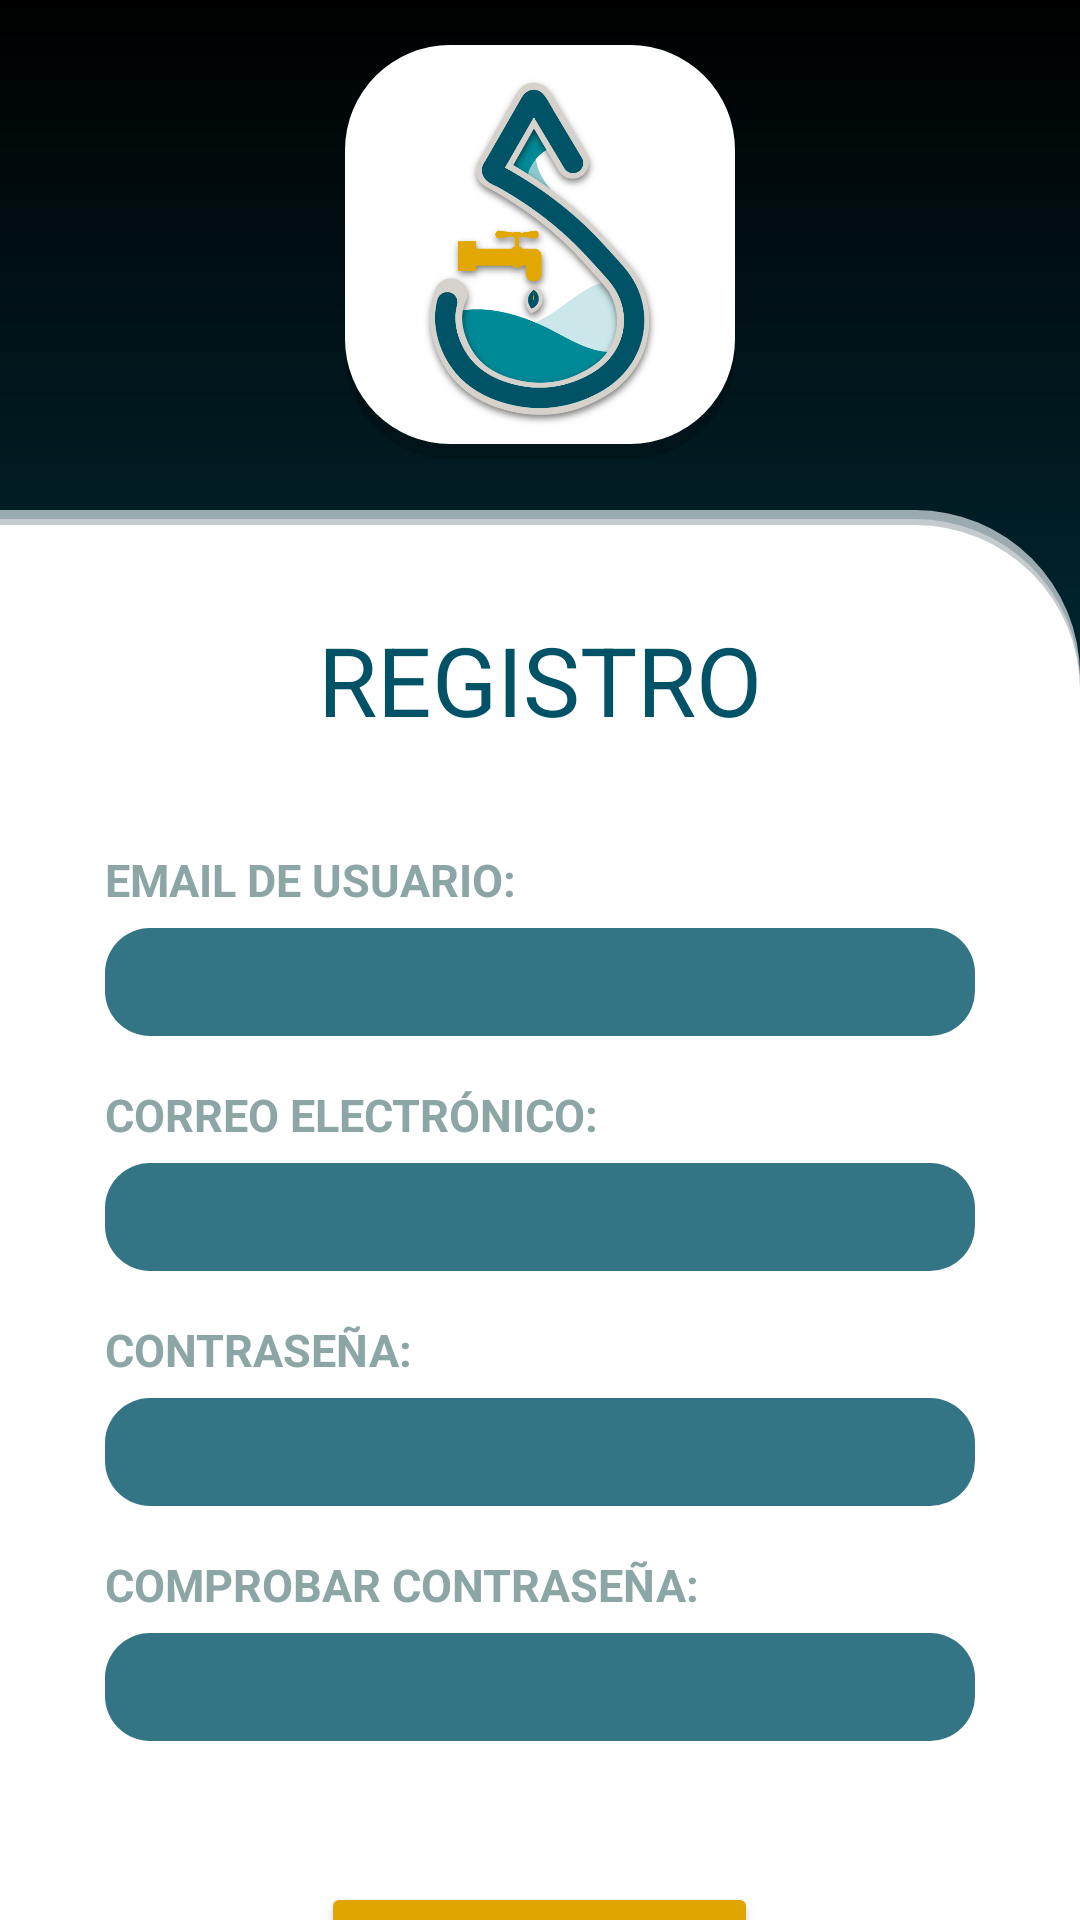

Screen size 1080x1920. Icon name, then its center in pixels as (x=x, y=y):
gotita: (x=540, y=252)
